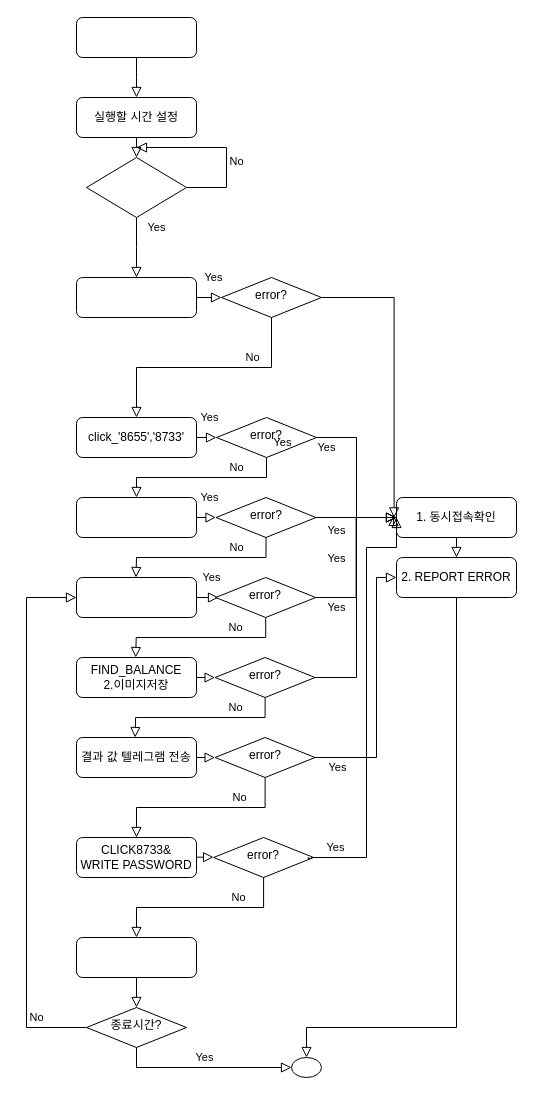
The diagram is 534 pixels wide and 1095 high, and some of its shapes have lost their labels. Here are the shapes that lost their labels. From the top down, the centre of each, then its label:
At (136,37): "NH_CLICK START".
At (136,187): "시간이 됐는가?".
At (136,297): "Find_inquiry".
At (136,517): "DRAG_WINDOW".
At (136,597): "FIND_BALANCE 1.이미지클릭".
At (136,957): "미체결사유 전송".
At (306,1067): "종료".
